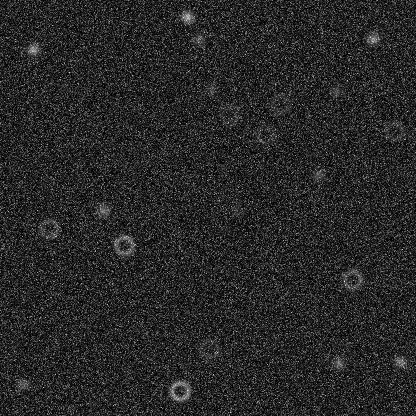Ring: (111, 233, 135, 257), (340, 267, 364, 291), (382, 118, 406, 142), (217, 102, 241, 126), (167, 378, 191, 402), (197, 336, 221, 360), (36, 216, 60, 240), (253, 122, 277, 146), (268, 91, 292, 115)
Spot: (228, 201, 244, 217), (190, 31, 206, 47), (203, 81, 219, 97), (392, 353, 408, 369), (330, 354, 346, 370), (326, 82, 342, 98), (365, 30, 381, 46), (95, 202, 111, 218), (178, 8, 194, 24), (14, 375, 30, 391), (25, 41, 41, 57), (310, 166, 326, 182)
